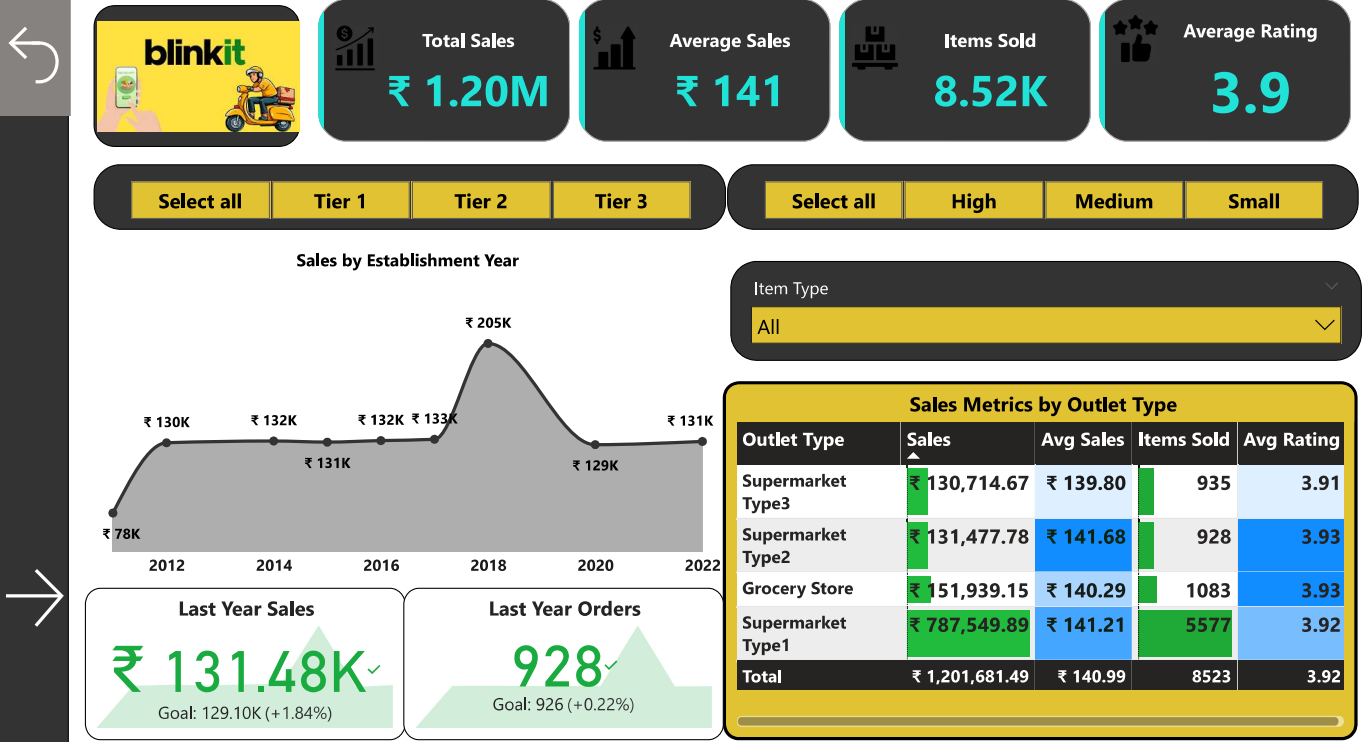

The page's visual inventory and layout, read from the dashboard file:
{"tool":"powerbi","page":{"name":"Dashboard","canvas":[1280,720],"ordinal":0},"visuals":[{"type":"shape","box":[0,0,66.4,719.9],"z":0},{"type":"lineChart","title":"Sales by Establishment Year","fields":{"Category":["Grocery Data.Outlet Establishment Year"],"Y":["Sum(Grocery Data.Sales)"]},"box":[84.6,237.5,592.1,315.5],"z":1000},{"type":"pivotTable","title":"Sales Metrics by Outlet Type","fields":{"Values":["Measure.Total Sales","Measure.Average Sales","Measure.Items Sold","Measure.Average Rating"],"Rows":["Grocery Data.Outlet Type"]},"box":[674.4,360.5,589.4,334.2],"z":2000},{"type":"cardVisual","fields":{"Data":["Measure.Total Sales","Measure.Average Sales","Measure.Items Sold","Measure.Average Rating"]},"box":[292.8,0,972.7,143.1],"z":3000},{"type":"kpi","title":"Last Year Sales","fields":{"Indicator":["Measure.Total Sales"],"TrendLine":["Grocery Data.Outlet Establishment Year"],"Goal":["Measure.Previous Year Sales"]},"box":[81.3,553,297.7,141.5],"z":4000},{"type":"kpi","title":"Last Year Orders","fields":{"TrendLine":["Grocery Data.Outlet Establishment Year"],"Indicator":["Measure.Items Sold"],"Goal":["Measure.Previous Year Orders"]},"box":[377.4,553,297.7,141.5],"z":5000},{"type":"slicer","fields":{"Values":["Grocery Data.Outlet Location Type"]},"box":[89.5,159.4,587.2,60.2],"z":6000},{"type":"slicer","fields":{"Values":["Grocery Data.Outlet Size"]},"box":[678.3,159.4,587.2,60.2],"z":7000},{"type":"slicer","fields":{"Values":["Grocery Data.Item Type"]},"box":[680.5,249.1,587.3,93.2],"z":8000},{"type":"shape","box":[89.5,11.4,191.9,131.8],"z":9000},{"type":"image","box":[87.8,19.5,196.8,115.5],"z":10000},{"type":"actionButton","box":[0,0,66.7,113.9],"z":11000},{"type":"actionButton","box":[0,527,66.7,69.9],"z":12000}]}

Visuals, with their boxes on the page's 1280x720 design canvas (x1, y1, x2, y2). These are canvas units, not pixel positions in the 1362x742 screenshot, which may show the page scaled, cropped or inside an application window:
shape: (left=0, top=0, right=66, bottom=720)
"Sales by Establishment Year" lineChart: (left=85, top=238, right=677, bottom=553)
"Sales Metrics by Outlet Type" pivotTable: (left=674, top=360, right=1264, bottom=695)
cardVisual - Measure.Total Sales x Measure.Average Sales: (left=293, top=0, right=1266, bottom=143)
"Last Year Sales" kpi: (left=81, top=553, right=379, bottom=694)
"Last Year Orders" kpi: (left=377, top=553, right=675, bottom=694)
slicer - Grocery Data.Outlet Location Type: (left=90, top=159, right=677, bottom=220)
slicer - Grocery Data.Outlet Size: (left=678, top=159, right=1266, bottom=220)
slicer - Grocery Data.Item Type: (left=680, top=249, right=1268, bottom=342)
shape: (left=90, top=11, right=281, bottom=143)
image: (left=88, top=20, right=285, bottom=135)
actionButton: (left=0, top=0, right=67, bottom=114)
actionButton: (left=0, top=527, right=67, bottom=597)
